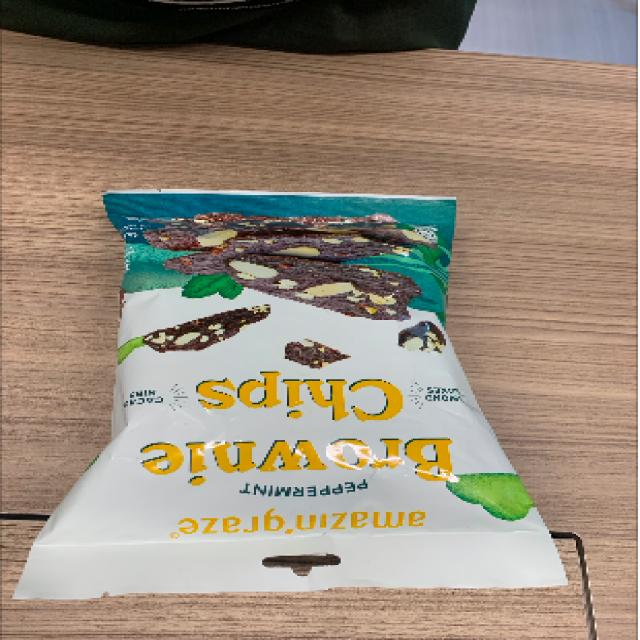object_name: (107, 195, 472, 586)
